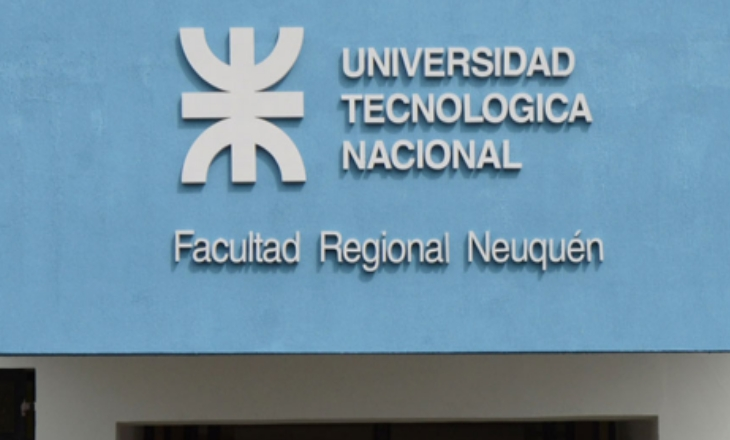utn: (174, 15, 313, 189)
